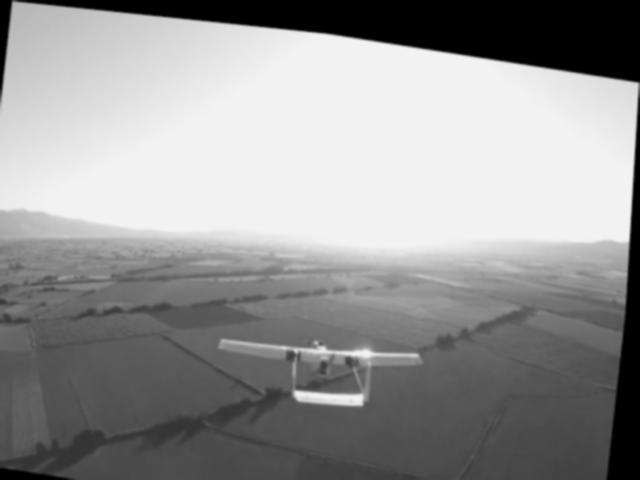hedef: (213, 306, 437, 421)
